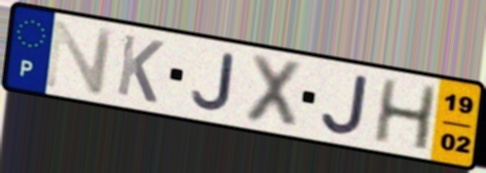H: (369, 77, 439, 154)
J: (319, 72, 372, 138), (188, 51, 236, 114)
K: (113, 31, 167, 107)
N: (41, 18, 118, 97)
X: (240, 51, 307, 134)
